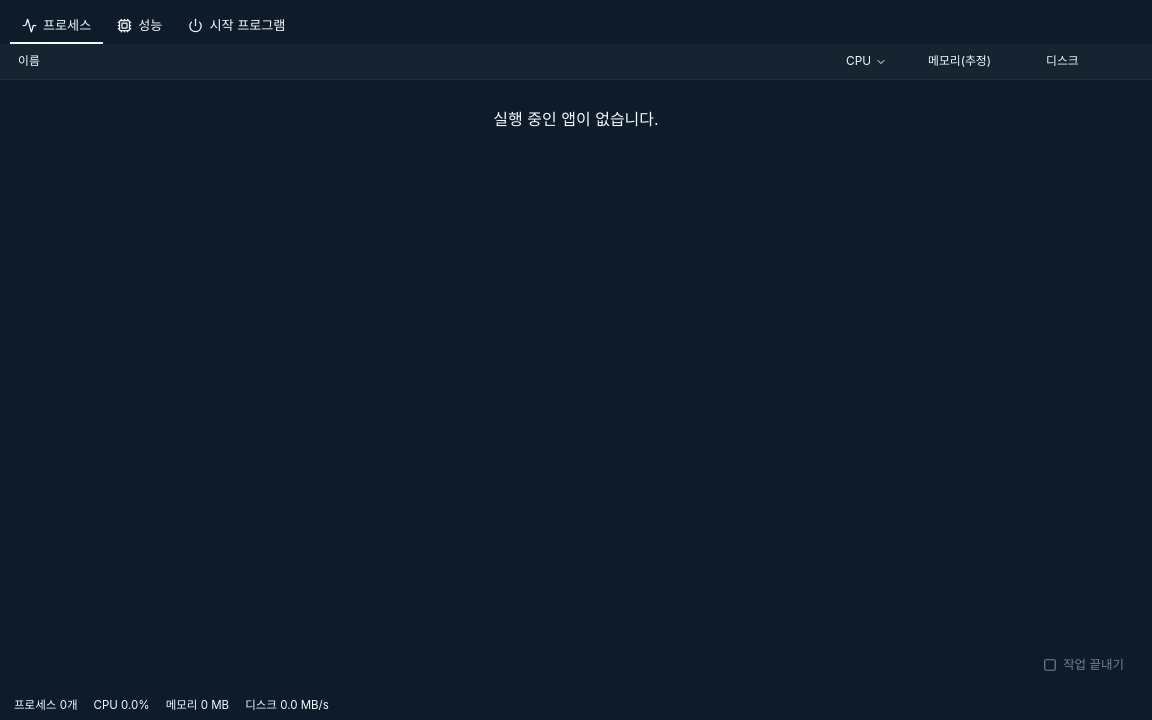
Test: TaskManagerApp 성능 탭 › 저장소 추정값이 있으면 사용량과 할당량을 적는다
Click the tab "성능".
click(140, 26)  # box [105,8,174,44]
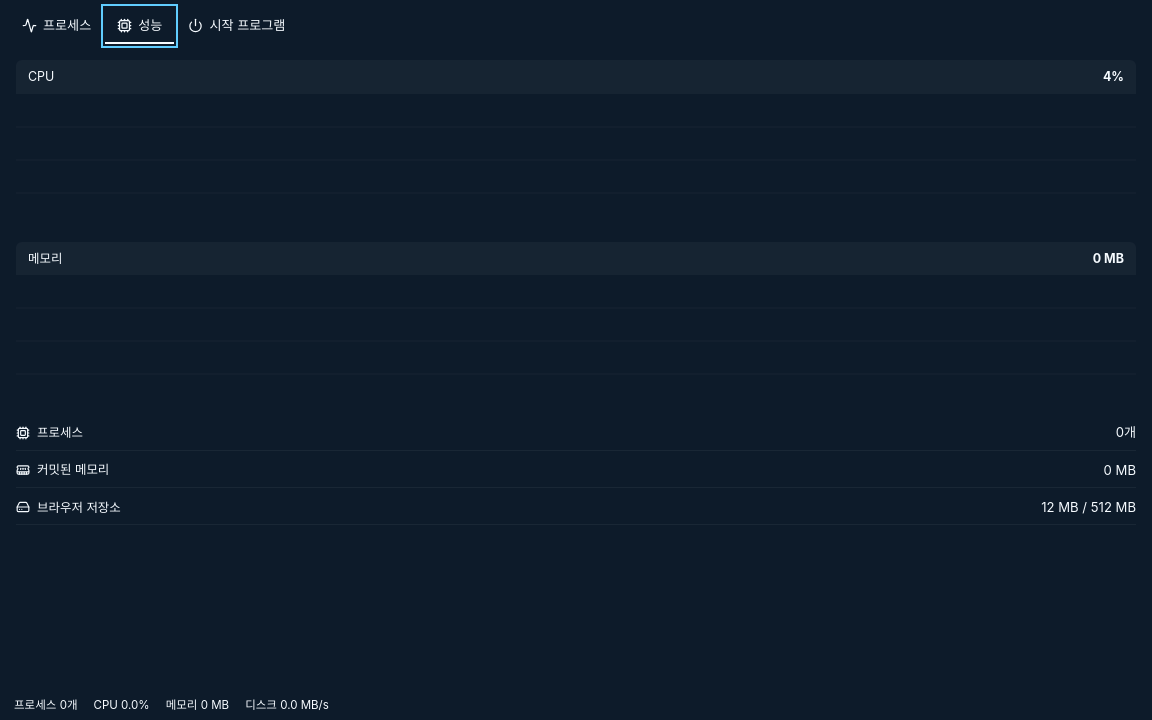
Check: the text "12 MB / 512 MB" is shown, box [1041,498,1136,516]
